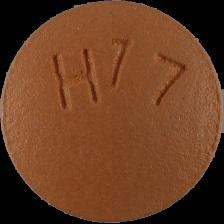43547-273: (0, 0, 224, 224)
